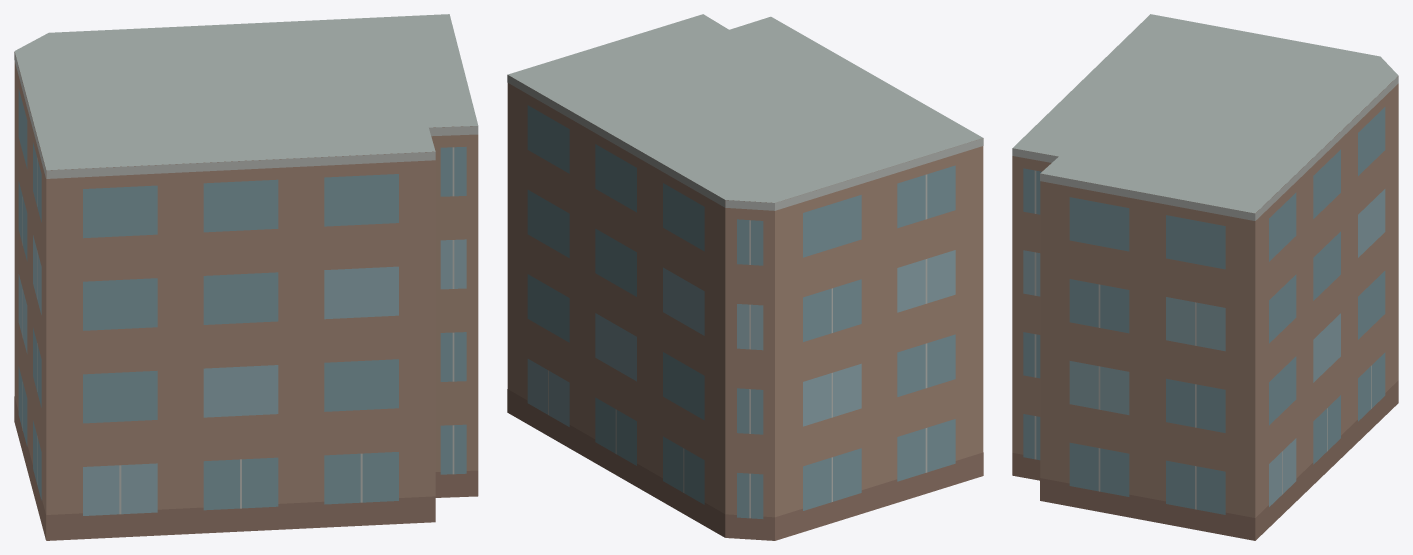
The model's file is survey-upis-32527736.glb.
3 renders of one model, left to right at view 1: azimuth 30°, elevation 25°; view 2: azimuth 150°, elevation 25°; view 3: azimuth 270°, elevation 25°, orthographic. The views are drawn at different scales.
Parts seen in each view (by area): view 1: survey-upis-32527736.tmp; view 2: survey-upis-32527736.tmp; view 3: survey-upis-32527736.tmp.
Part boxes in pixels (box(x1,y1,x2,y2)): survey-upis-32527736.tmp: box(14, 14, 478, 540); survey-upis-32527736.tmp: box(507, 14, 983, 540); survey-upis-32527736.tmp: box(1012, 14, 1398, 540).
Bounding box in the file's own units: 13.6 × 10.4 × 11.13.
